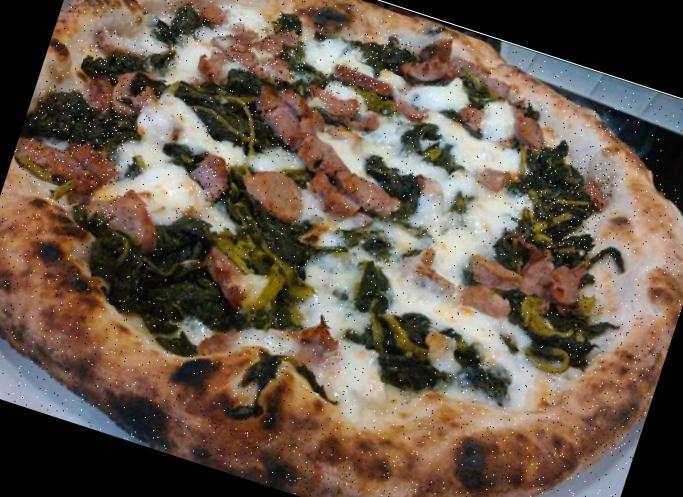Broccoli: (85, 198, 260, 342), (504, 140, 616, 261), (168, 76, 294, 158), (496, 290, 613, 376), (356, 308, 455, 400), (29, 80, 143, 157), (214, 193, 316, 273), (355, 155, 435, 229), (80, 34, 170, 95), (356, 27, 417, 78), (398, 121, 458, 170), (153, 0, 211, 50)
Ham: (231, 88, 415, 232), (195, 292, 340, 394), (206, 32, 310, 94), (8, 132, 106, 197), (195, 245, 274, 308), (87, 192, 167, 250), (240, 161, 306, 222), (516, 253, 586, 310), (442, 52, 514, 106), (91, 24, 174, 68), (110, 68, 170, 124), (252, 16, 310, 69), (64, 138, 126, 183), (330, 60, 394, 102), (472, 252, 528, 296), (188, 154, 234, 202), (398, 46, 446, 91), (506, 114, 550, 156), (309, 85, 363, 119), (462, 282, 508, 320), (194, 57, 240, 90), (572, 179, 612, 215), (81, 74, 118, 112), (474, 156, 510, 194), (458, 103, 488, 129), (392, 97, 424, 118)
Pizza: (0, 0, 683, 497)
